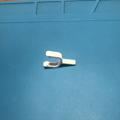u-shape: (40, 50, 77, 71)
